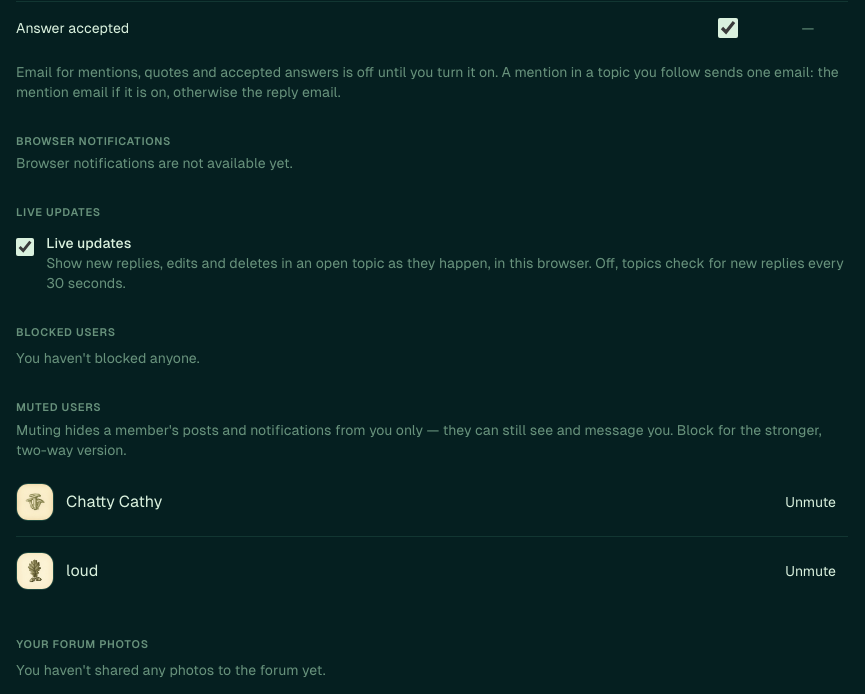
Scenario: SettingsPage muted users (todo 347) › lists muted users in server order and removes a row when Unmute succeeds, without a refetch
The image size is (865, 694).
(page scrolled)
Check: the text "Chatty Cathy" is shown, box [66,490,162,514]
Check: the text "loud" is shown, box [66,558,98,582]
Click the button "Unmute" in the row of "Chatty Cathy": (811, 502) [773,480,848,524]
(page scrolled)
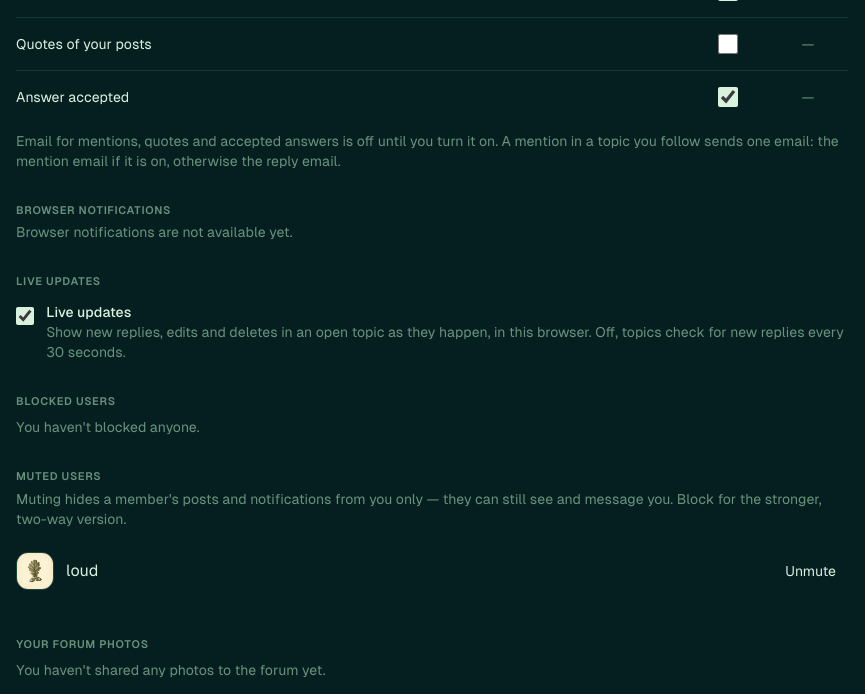
Check: the text "loud" is shown, box [66,558,98,582]
Check: the text "Chatty Cathy" is gone
